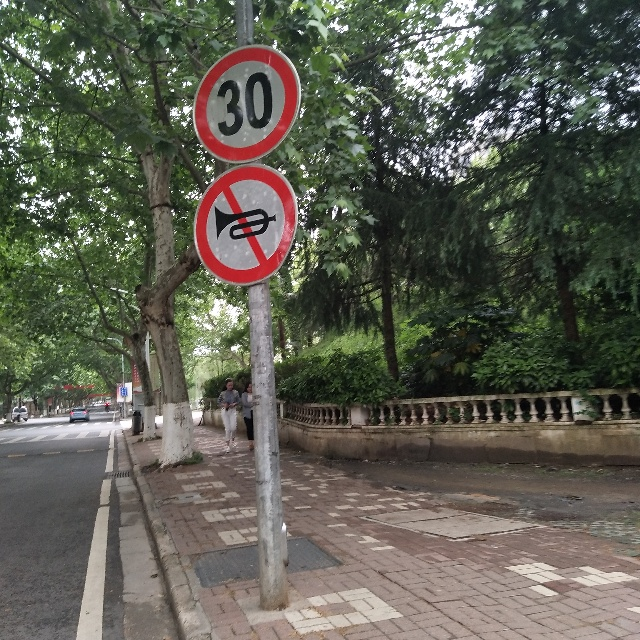nohonk: (197, 176, 291, 270)
